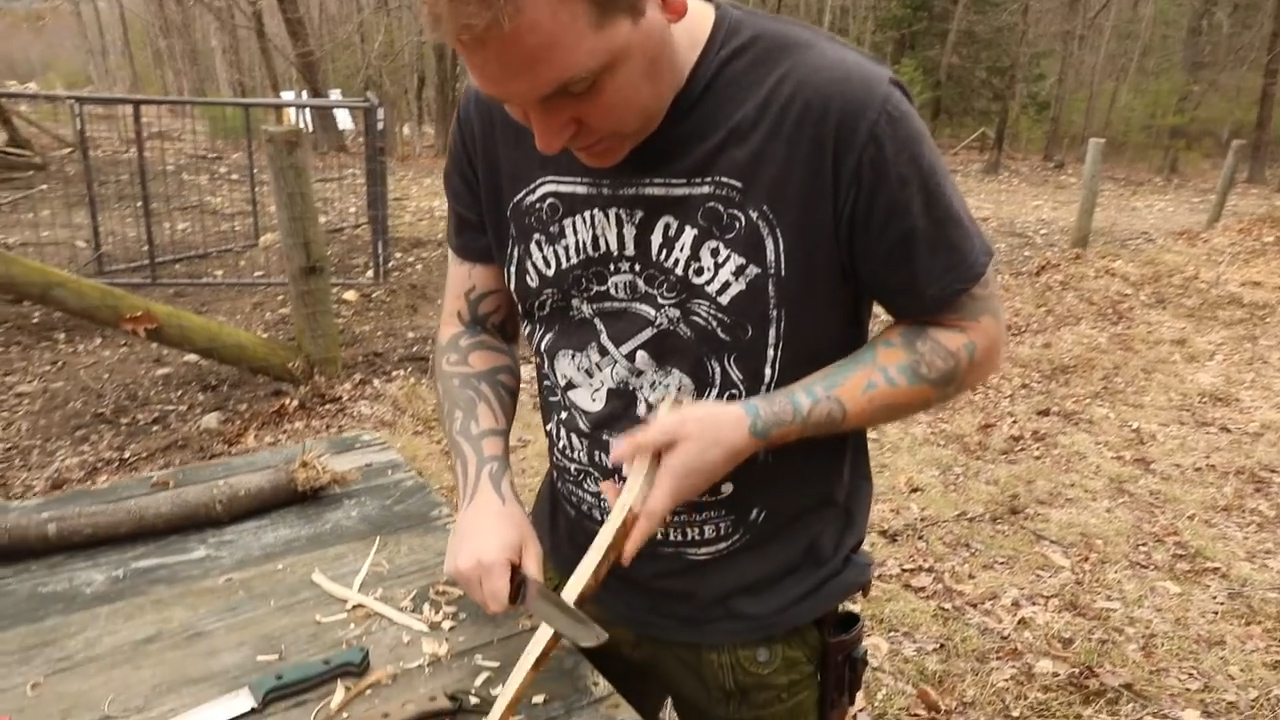knife: (438, 521, 623, 661)
